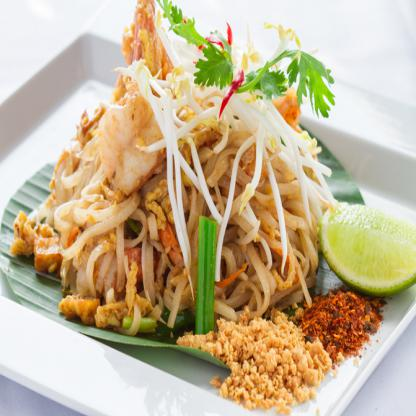Pad Thai: (5, 5, 388, 394)
